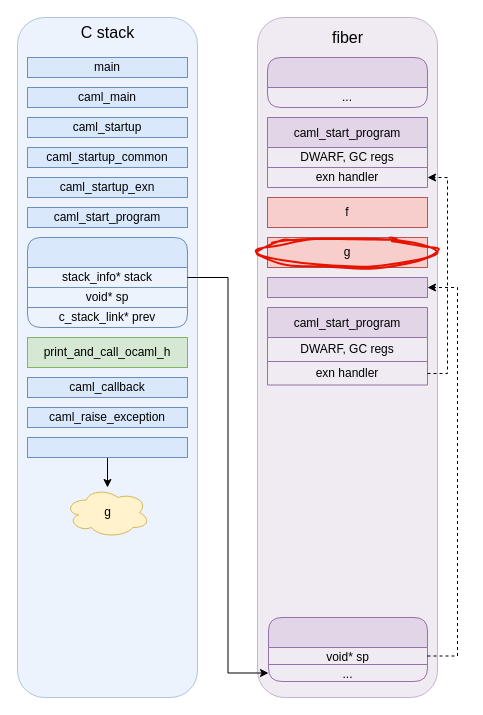
This 483x715 diagram has some shape labels left out. The shapes that lost their labels are listed below. From the top down, each one's box as (x1, y1, x2, y2) in pixels, then its label:
(266, 56, 428, 108): struct stack_handler
(26, 236, 188, 328): struct c_stack_link
(266, 276, 428, 298): caml_c_call
(26, 436, 188, 458): caml_tsan_exn_func_exit
(268, 616, 428, 682): struct stack_info
